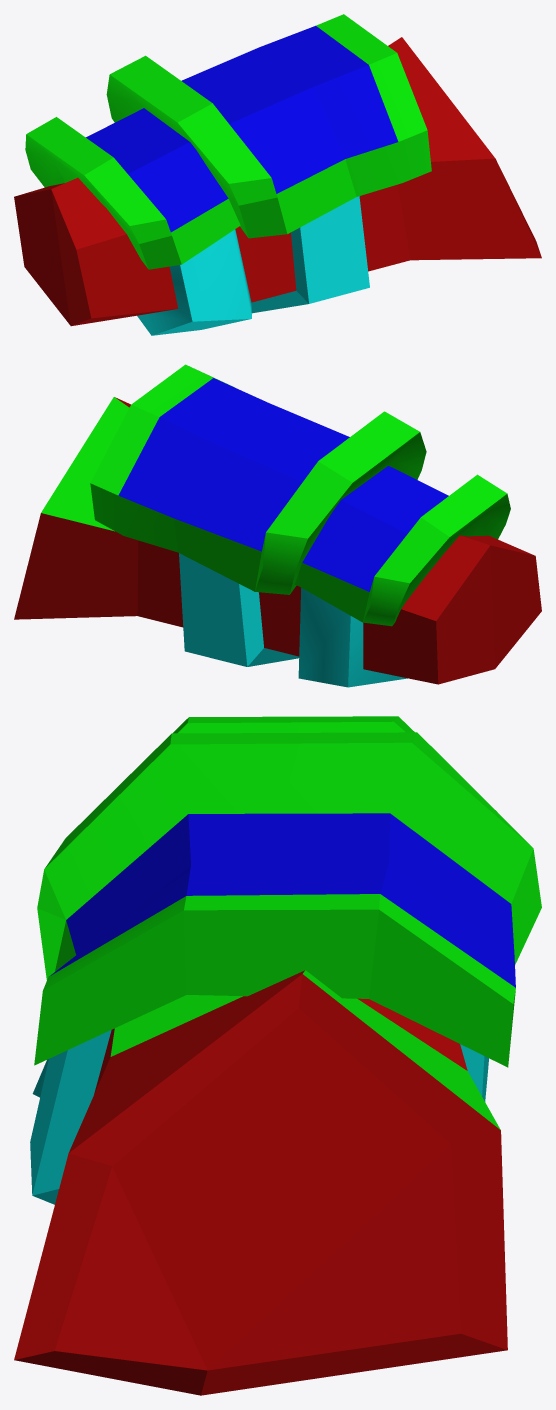
The model's file is Chr_ArmUpperRight_Male_Static_04.fbx.
The picture shows the model from 3 angles, top to bottom: view 1: azimuth 30°, elevation 25°; view 2: azimuth 150°, elevation 25°; view 3: azimuth 270°, elevation 25°; orthographic projection. The views are drawn at different scales.
Visible parts, largest first — view 1: Chr_ArmUpperRight_Male_04; view 2: Chr_ArmUpperRight_Male_04; view 3: Chr_ArmUpperRight_Male_04.
Part boxes in pixels (left/top/right/bottom): Chr_ArmUpperRight_Male_04: left=14, top=14, right=541, bottom=335; Chr_ArmUpperRight_Male_04: left=14, top=364, right=541, bottom=687; Chr_ArmUpperRight_Male_04: left=14, top=716, right=541, bottom=1395.
Size of the model in its own units: 32.44 by 17.32 by 18.56.
